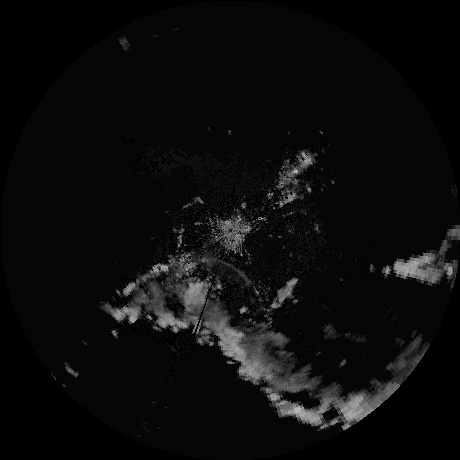frontgust: (191, 256, 254, 287)
